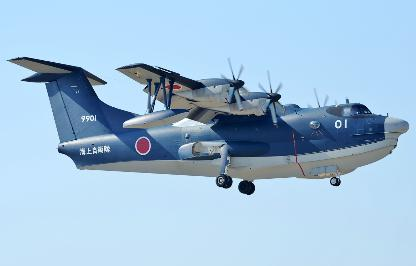Tu95: (4, 55, 408, 193)
